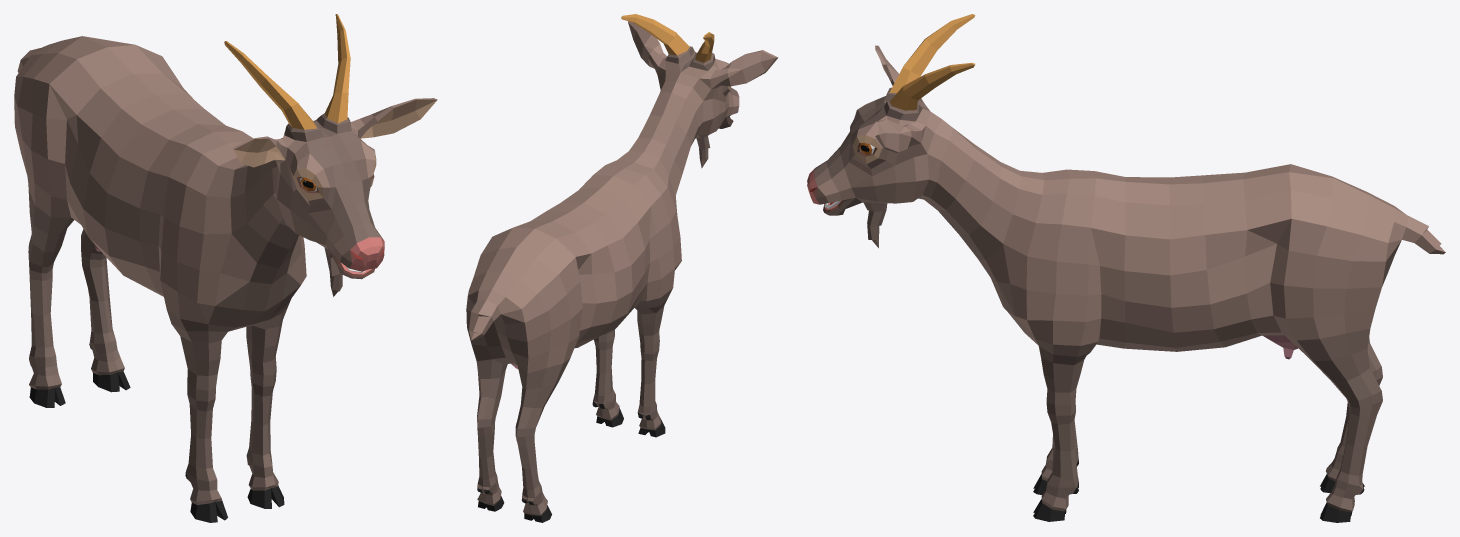
The model's file is LowPoly_Goat_Fem_3.obj.
The picture shows the model from 3 angles, left to right: view 1: azimuth 30°, elevation 25°; view 2: azimuth 150°, elevation 25°; view 3: azimuth 270°, elevation 25°; orthographic projection. The views are drawn at different scales.
Visible parts, largest first — view 1: Goat_Fem_3_Cube.002; view 2: Goat_Fem_3_Cube.002; view 3: Goat_Fem_3_Cube.002.
Part boxes in pixels (x1,y1,x2,y2): Goat_Fem_3_Cube.002: [14, 14, 437, 522]; Goat_Fem_3_Cube.002: [466, 14, 778, 522]; Goat_Fem_3_Cube.002: [807, 14, 1445, 522].
Bounding box in the file's own units: 0.3947 × 0.9443 × 1.18.
